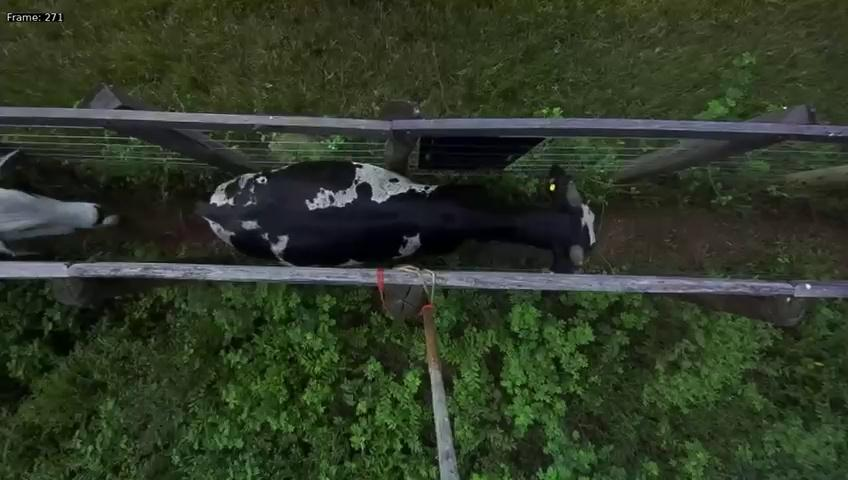cattle: (189, 146, 609, 284)
